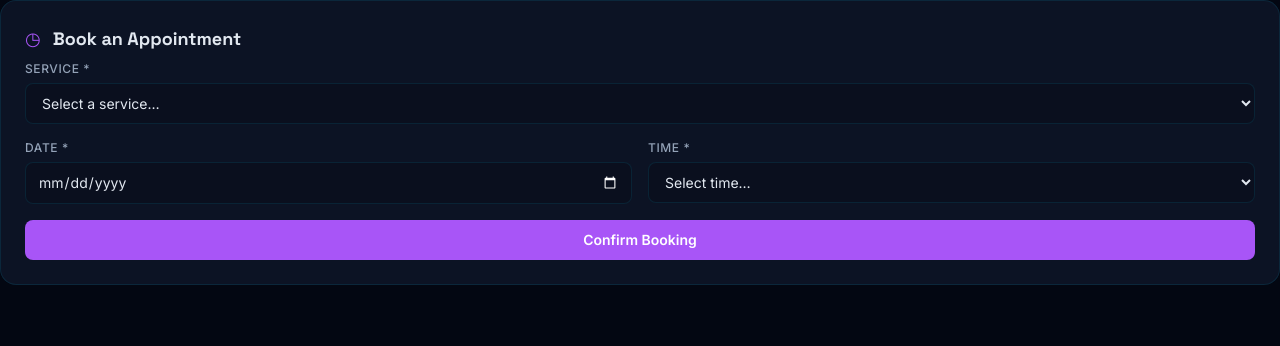
Scenario: BookingForm › shows inline validation errors when required fields are empty
The image size is (1280, 346).
Click the button with test id "book-submit".
click(640, 240)  # box 25,220 -> 1255,260
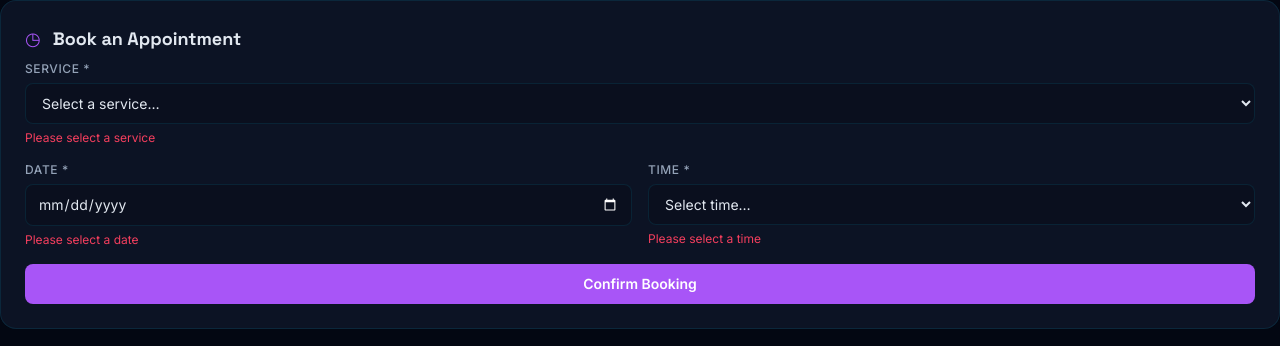
Check: the message "Please select a service" is shown, box 25,130 -> 155,145
Check: the message "Please select a date" is shown, box 25,232 -> 138,247
Check: the message "Please select a time" is shown, box 648,231 -> 761,246
